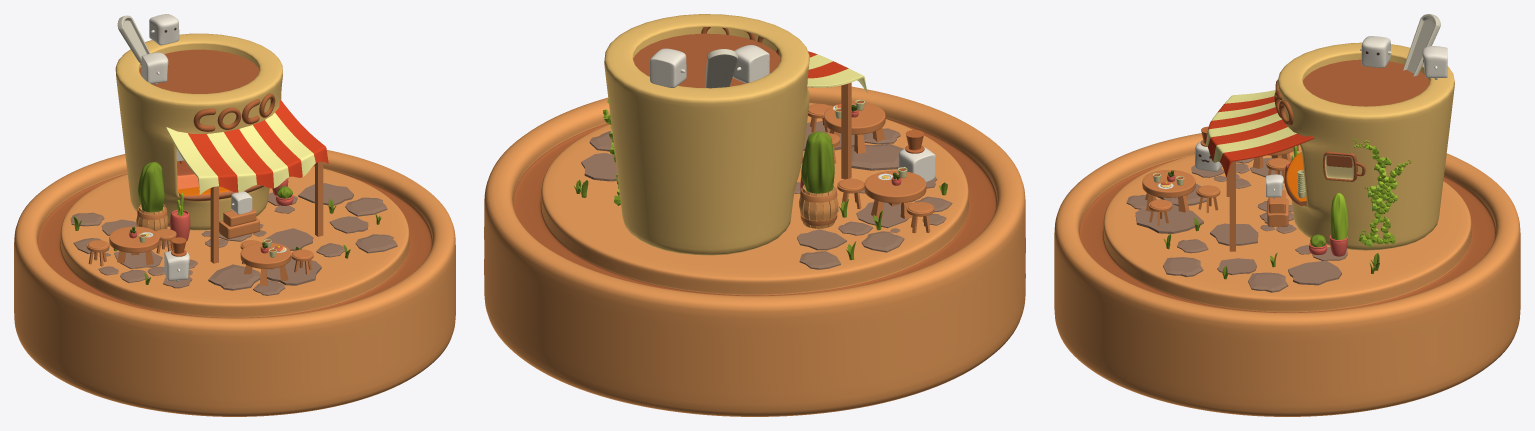
The model's file is shop-transformed.glb.
3 views of the same model, side by side, from view 1: azimuth 30°, elevation 25°; view 2: azimuth 150°, elevation 25°; view 3: azimuth 270°, elevation 25° (orthographic). The views are drawn at different scales.
Visible parts, largest first — view 1: Object_4; view 2: Object_4; view 3: Object_4.
Part boxes in pixels (left/top/right/bottom): Object_4: left=14, top=14, right=455, bottom=416; Object_4: left=484, top=14, right=1025, bottom=416; Object_4: left=1054, top=14, right=1520, bottom=416.
Bounding box in the file's own units: 1.99 × 1.34 × 1.99.
Materials: 2 (1 with a texture image).
